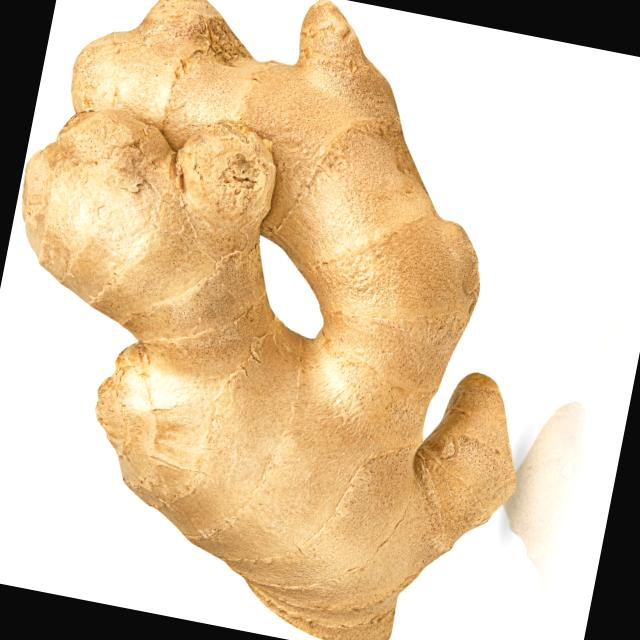ginger-root: (0, 0, 611, 640)
